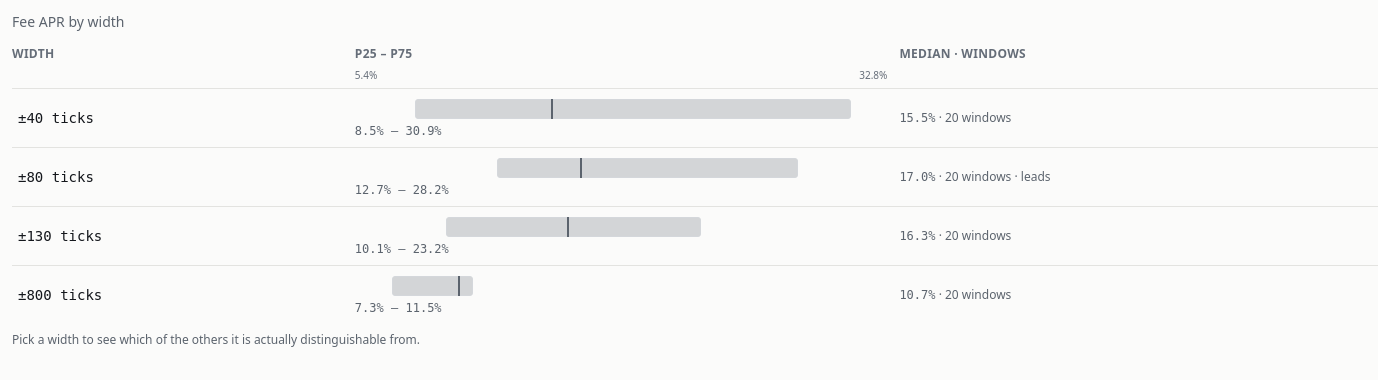
Test: selecting a width answers the question the table could not › names what the chosen width is and is not separated from
Click the button "±80 ticks".
click(56, 177)  # box [12,163,100,191]
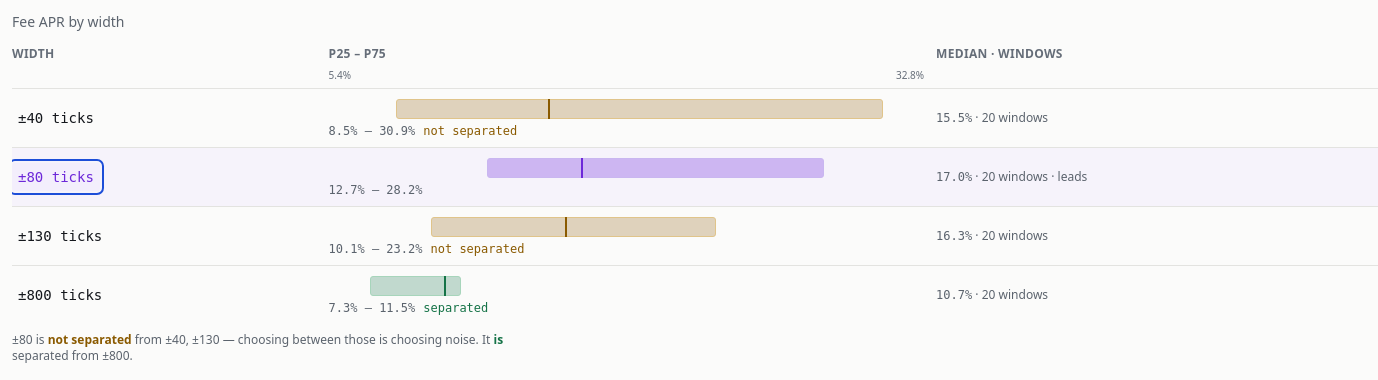
Expected: the text "±800" is shown, [12,281,108,309]
Result: the text "±40, ±130" is shown at [165,331,220,348]
